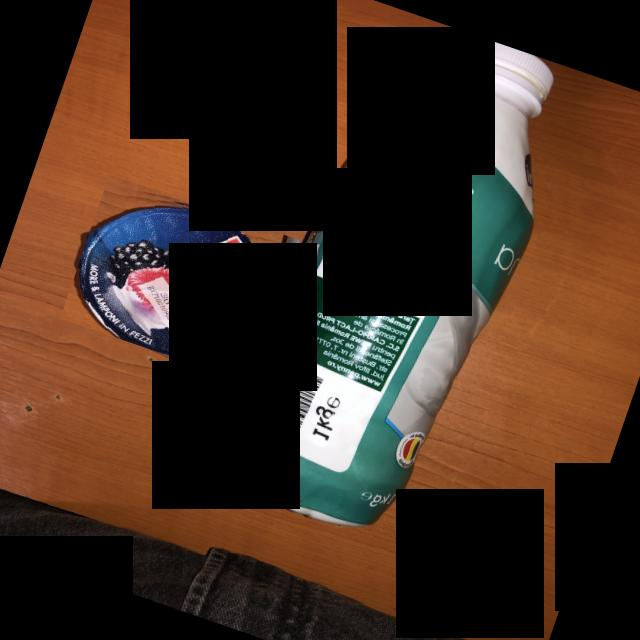yogurt: (59, 174, 300, 383)
